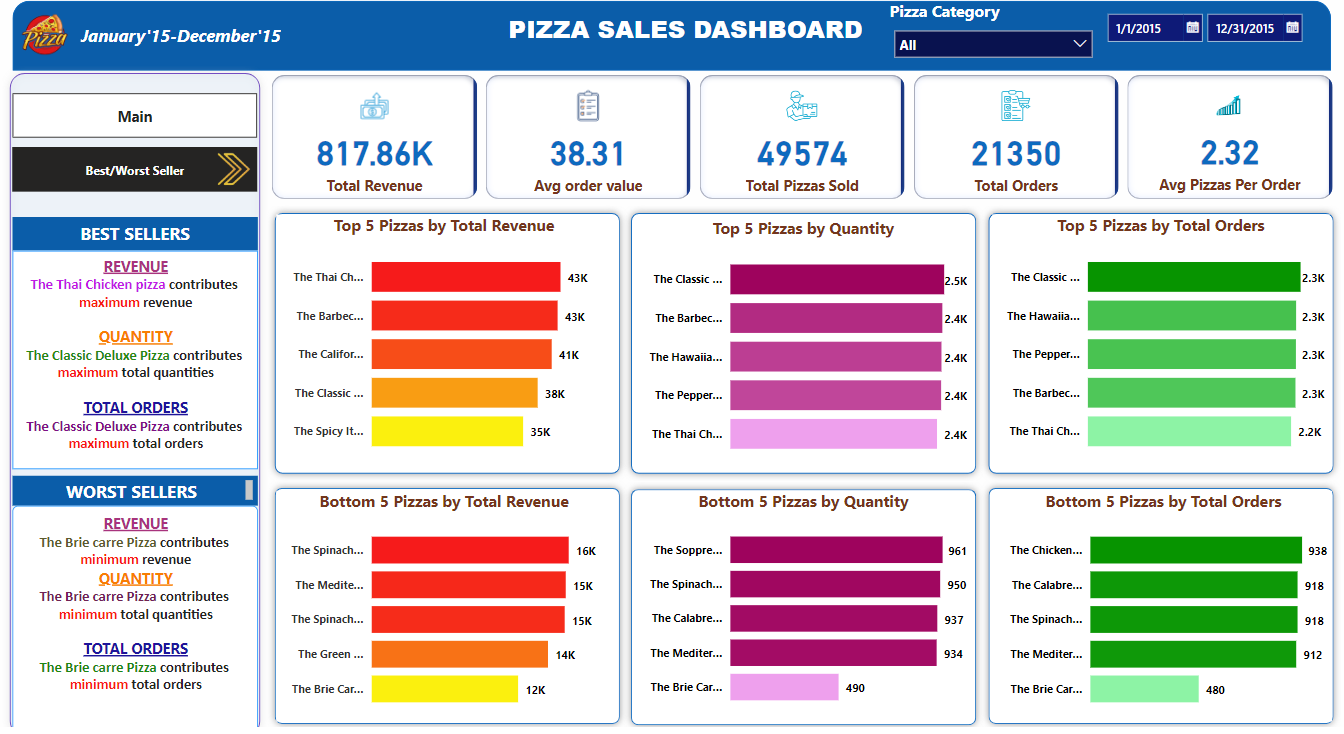

This screenshot's page, from the dashboard's own definition file:
{"tool":"powerbi","page":{"name":"Best/Worst Seller","canvas":[1500,820],"ordinal":1},"visuals":[{"type":"cardVisual","fields":{"Data":["public pizza_data.Total revenue","public pizza_data.Avg order","public pizza_data.Total pizza sold","public pizza_data.Total orders","public pizza_data.Avg pizzas per order"]},"box":[304.9,81,1178.5,147],"z":0},{"type":"shape","box":[24.7,4.1,1449.1,76.9],"z":1000},{"type":"textbox","box":[520.6,11,487.6,48.1],"z":2000},{"type":"shape","box":[13.8,75,291.2,745],"z":3000},{"type":"textbox","box":[24.7,241.7,269.2,37.1],"z":4000},{"type":"textbox","box":[24.7,278.8,269.2,240.4],"z":5000},{"type":"textbox","box":[24.7,526.1,269.2,33],"z":6000},{"type":"textbox","box":[24.7,559,269.2,250],"z":7000},{"type":"slicer","title":"Pizza Category","fields":{"Values":["public pizza_data.pizza_category"]},"box":[983.5,4.1,237.6,76.9],"z":8000},{"type":"slicer","fields":{"Values":["public pizza_data.order_date"]},"box":[1215.6,8.2,244.5,72.8],"z":9000},{"type":"image","box":[25,10,70,65],"z":10000},{"type":"textbox","box":[95,25,247.5,36.2],"z":11000},{"type":"shape","box":[1088.8,228.8,395,302.5],"z":12000},{"type":"shape","box":[696.2,228.8,395,302.5],"z":13000},{"type":"shape","box":[305,228.8,395,302.5],"z":14000},{"type":"shape","box":[1088.8,531.2,395,275],"z":15000},{"type":"shape","box":[696.2,532.5,395,275],"z":16000},{"type":"shape","box":[305,531.2,395,275],"z":17000},{"type":"clusteredBarChart","title":"Top 5 Pizzas by Total Revenue ","fields":{"Y":["public pizza_data.Total Revenue"],"Category":["public pizza_data.pizza_name"]},"box":[315,238.8,368.8,277.5],"z":18000},{"type":"clusteredBarChart","title":"Bottom 5 Pizzas by Total Revenue ","fields":{"Y":["public pizza_data.Total Revenue"],"Category":["public pizza_data.pizza_name"]},"box":[315,542.5,368.8,253.8],"z":19000},{"type":"clusteredBarChart","title":"Top 5 Pizzas by Quantity","fields":{"Y":["public pizza_data.Total Pizzas Sold"],"Category":["public pizza_data.pizza_name"]},"box":[708.8,241.2,370,277.5],"z":20000},{"type":"clusteredBarChart","title":"Bottom 5 Pizzas by Quantity","fields":{"Y":["public pizza_data.Total Pizzas Sold"],"Category":["public pizza_data.pizza_name"]},"box":[708.8,542.5,370,251.2],"z":21000},{"type":"clusteredBarChart","title":"Top 5 Pizzas by Total Orders","fields":{"Category":["public pizza_data.pizza_name"],"Y":["public pizza_data.Total Orders"]},"box":[1101.2,238.8,370,277.5],"z":22000},{"type":"clusteredBarChart","title":"Bottom 5 Pizzas by Total Orders","fields":{"Category":["public pizza_data.pizza_name"],"Y":["public pizza_data.Total Orders"]},"box":[1103.8,542.5,370,253.8],"z":23000},{"type":"pageNavigator","box":[24.7,105.8,269.2,49.4],"z":23001},{"type":"pageNavigator","box":[24.7,164.8,269.2,49.4],"z":23002},{"type":"image","box":[241.7,159.3,52.2,60.4],"z":23003}]}

Visuals, with their boxes in screenshot pixels (x1, y1, x2, y2), scaled from the page's 1500x820 canvas onto the 1344x734 screenshot:
cardVisual - public pizza_data.Total revenue x public pizza_data.Avg order: left=273, top=73, right=1329, bottom=204
shape: left=22, top=4, right=1321, bottom=73
textbox: left=466, top=10, right=903, bottom=53
shape: left=12, top=67, right=273, bottom=733
textbox: left=22, top=216, right=263, bottom=250
textbox: left=22, top=250, right=263, bottom=465
textbox: left=22, top=471, right=263, bottom=500
textbox: left=22, top=500, right=263, bottom=724
"Pizza Category" slicer: left=881, top=4, right=1094, bottom=73
slicer - public pizza_data.order_date: left=1089, top=7, right=1308, bottom=73
image: left=22, top=9, right=85, bottom=67
textbox: left=85, top=22, right=307, bottom=55
shape: left=976, top=205, right=1329, bottom=476
shape: left=624, top=205, right=978, bottom=476
shape: left=273, top=205, right=627, bottom=476
shape: left=976, top=475, right=1329, bottom=722
shape: left=624, top=477, right=978, bottom=723
shape: left=273, top=475, right=627, bottom=722
"Top 5 Pizzas by Total Revenue " clusteredBarChart: left=282, top=214, right=613, bottom=462
"Bottom 5 Pizzas by Total Revenue " clusteredBarChart: left=282, top=486, right=613, bottom=713
"Top 5 Pizzas by Quantity" clusteredBarChart: left=635, top=216, right=967, bottom=464
"Bottom 5 Pizzas by Quantity" clusteredBarChart: left=635, top=486, right=967, bottom=710
"Top 5 Pizzas by Total Orders" clusteredBarChart: left=987, top=214, right=1318, bottom=462
"Bottom 5 Pizzas by Total Orders" clusteredBarChart: left=989, top=486, right=1321, bottom=713
pageNavigator: left=22, top=95, right=263, bottom=139
pageNavigator: left=22, top=148, right=263, bottom=192
image: left=217, top=143, right=263, bottom=197
